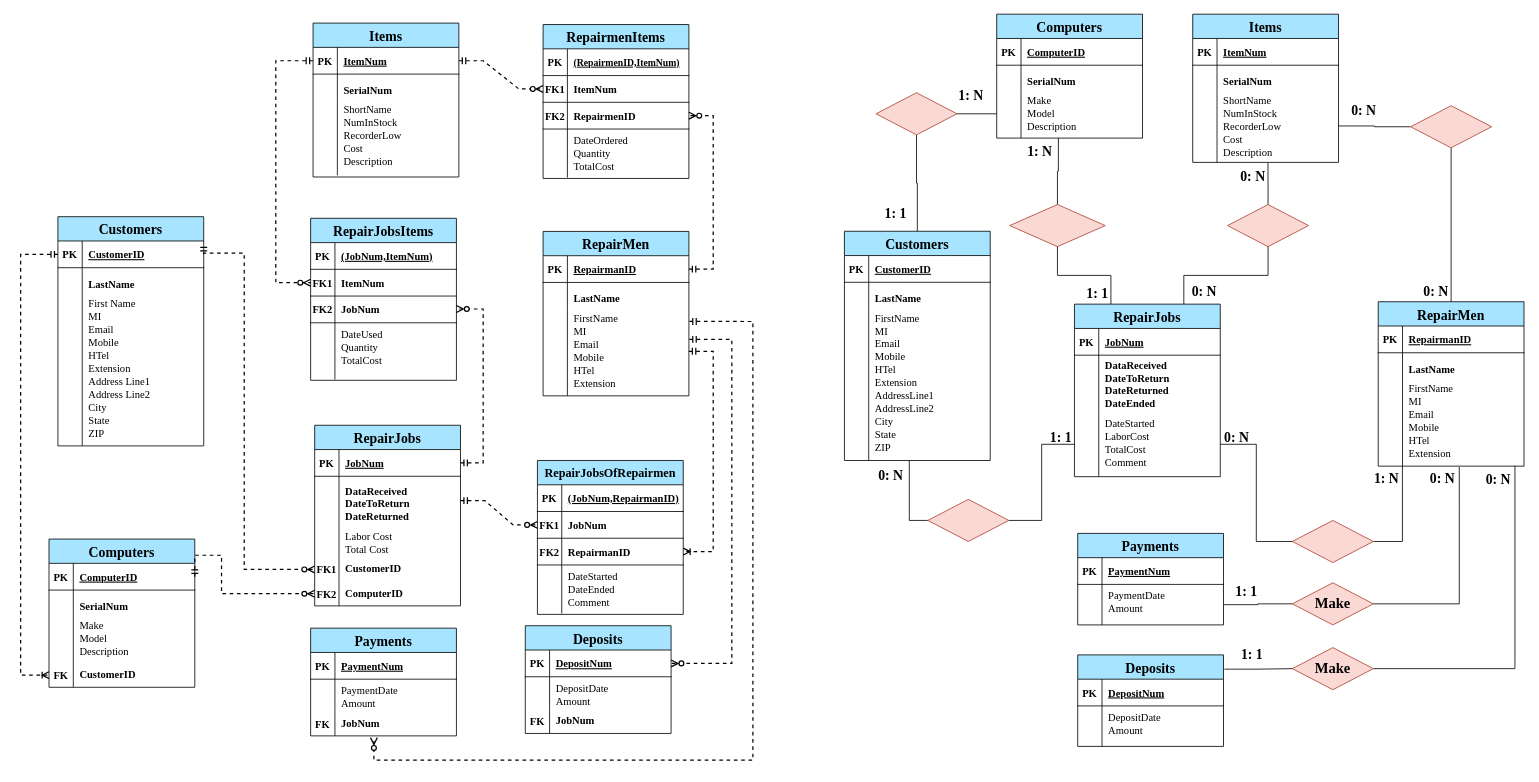
The diagram is 1539 pixels wide and 782 high, and some of its shapes have lost their labels. Here are the shapes that lost their labels. From the top down, the centre of each, then its label:
At (x=916, y=113): "Own".
At (x=1451, y=126): "Order".
At (x=1057, y=225): "Conducted".
At (x=1268, y=225): "Use".
At (x=968, y=520): "Request".
At (x=1332, y=541): "Perform".
